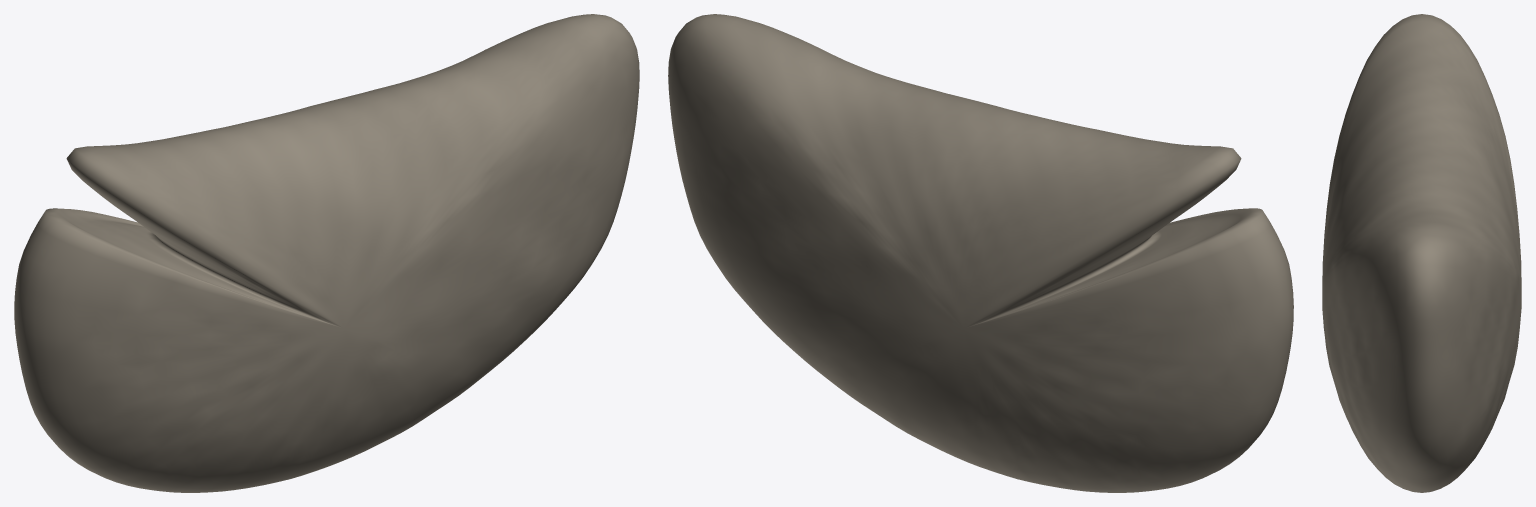
3 renders of one model, left to right at view 1: azimuth 30°, elevation 25°; view 2: azimuth 150°, elevation 25°; view 3: azimuth 270°, elevation 25°, orthographic. The views are drawn at different scales.
Visible parts, largest first — view 1: Whole mineral internal mould - integrated pegma cleft; view 2: Whole mineral internal mould - integrated pegma cleft; view 3: Whole mineral internal mould - integrated pegma cleft.
Boxes of the visible parts, box(x1,y1,x2,y2) form: Whole mineral internal mould - integrated pegma cleft: box(14, 14, 639, 492); Whole mineral internal mould - integrated pegma cleft: box(668, 14, 1293, 492); Whole mineral internal mould - integrated pegma cleft: box(1322, 14, 1521, 492).
Size of the model in its own units: 0.022 by 0.013 by 0.0065.
